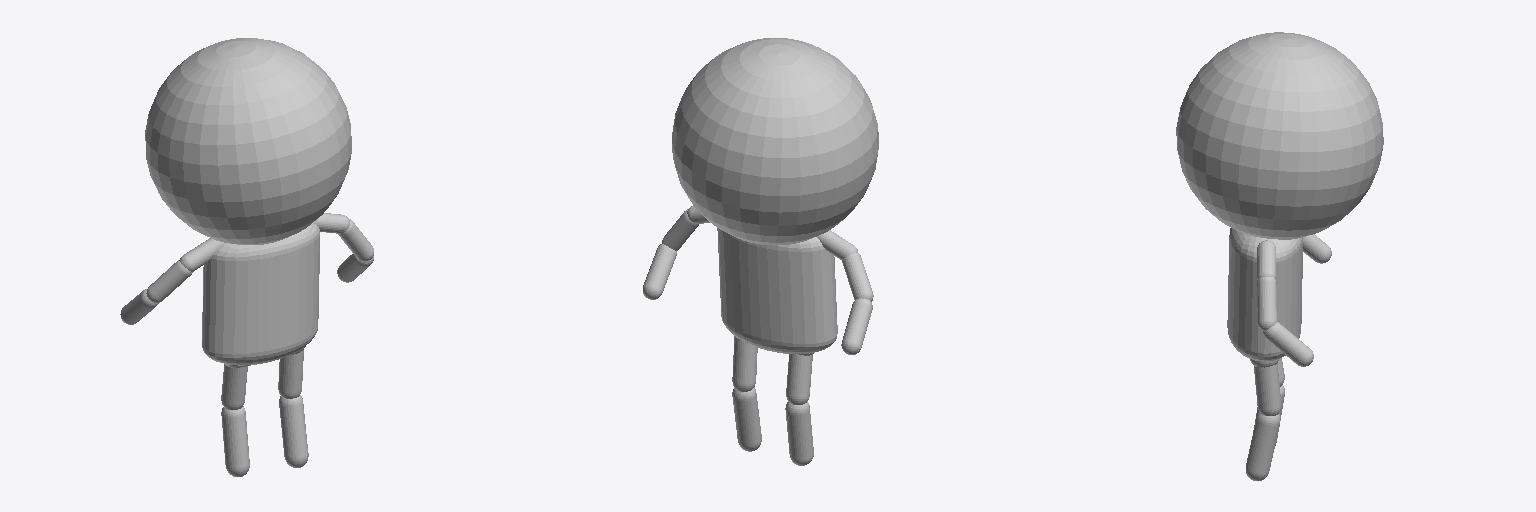
Rendered from Stickman_000088.obj.
The picture shows the model from 3 angles: view 1: azimuth 30°, elevation 25°; view 2: azimuth 150°, elevation 25°; view 3: azimuth 270°, elevation 25°; orthographic projection.
Visible parts, largest first — view 1: Head_Sphere.001, Body_Roundcube.002, LowerLegLeft_Roundcube.013, LowerLegRight_Roundcube.011, UpperLegLeft_Roundcube.012, UpperLegRight_Roundcube.010, UpperArmRight_Roundcube.015, UpperArmLeft_Roundcube.018, ShoulderRight_Roundcube.014, LowerArmRight_Roundcube.016, LowerArmLeft_Roundcube.019, ShoulderLeft_Roundcube.017; view 2: Head_Sphere.001, Body_Roundcube.002, LowerLegRight_Roundcube.011, LowerLegLeft_Roundcube.013, UpperLegRight_Roundcube.010, UpperLegLeft_Roundcube.012, LowerArmRight_Roundcube.016, LowerArmLeft_Roundcube.019, UpperArmRight_Roundcube.015, UpperArmLeft_Roundcube.018, ShoulderRight_Roundcube.014; view 3: Head_Sphere.001, Body_Roundcube.002, LowerLegLeft_Roundcube.013, UpperLegLeft_Roundcube.012, LowerArmLeft_Roundcube.019, UpperArmLeft_Roundcube.018, ShoulderLeft_Roundcube.017, LowerArmRight_Roundcube.016.
Part boxes in pixels (left/top/right/bottom): Head_Sphere.001: left=145, top=38, right=351, bottom=244; Body_Roundcube.002: left=202, top=223, right=319, bottom=365; LowerLegLeft_Roundcube.013: left=279, top=395, right=308, bottom=467; LowerLegRight_Roundcube.011: left=221, top=406, right=249, bottom=476; UpperLegLeft_Roundcube.012: left=278, top=350, right=303, bottom=398; UpperLegRight_Roundcube.010: left=221, top=364, right=247, bottom=409; UpperArmRight_Roundcube.015: left=146, top=260, right=192, bottom=302; UpperArmLeft_Roundcube.018: left=338, top=219, right=373, bottom=261; ShoulderRight_Roundcube.014: left=179, top=238, right=223, bottom=271; LowerArmRight_Roundcube.016: left=120, top=289, right=158, bottom=324; LowerArmLeft_Roundcube.019: left=337, top=254, right=373, bottom=282; ShoulderLeft_Roundcube.017: left=313, top=213, right=349, bottom=233; Head_Sphere.001: left=672, top=38, right=878, bottom=245; Body_Roundcube.002: left=717, top=228, right=837, bottom=354; LowerLegRight_Roundcube.011: left=785, top=401, right=813, bottom=465; LowerLegLeft_Roundcube.013: left=732, top=387, right=761, bottom=451; UpperLegRight_Roundcube.010: left=786, top=354, right=812, bottom=404; UpperLegLeft_Roundcube.012: left=732, top=336, right=757, bottom=391; LowerArmRight_Roundcube.016: left=841, top=298, right=872, bottom=354; LowerArmLeft_Roundcube.019: left=643, top=244, right=676, bottom=299; UpperArmRight_Roundcube.015: left=842, top=253, right=873, bottom=301; UpperArmLeft_Roundcube.018: left=662, top=209, right=698, bottom=250; ShoulderRight_Roundcube.014: left=817, top=230, right=857, bottom=259; Head_Sphere.001: left=1176, top=32, right=1383, bottom=239; Body_Roundcube.002: left=1227, top=228, right=1302, bottom=361; LowerLegLeft_Roundcube.013: left=1246, top=412, right=1280, bottom=480; UpperLegLeft_Roundcube.012: left=1254, top=363, right=1281, bottom=415; LowerArmLeft_Roundcube.019: left=1263, top=322, right=1313, bottom=366; UpperArmLeft_Roundcube.018: left=1257, top=277, right=1276, bottom=330; ShoulderLeft_Roundcube.017: left=1257, top=240, right=1275, bottom=279; LowerArmRight_Roundcube.016: left=1303, top=234, right=1331, bottom=263.
Bounding box in the file's own units: 7.63 × 13.5 × 6.04.